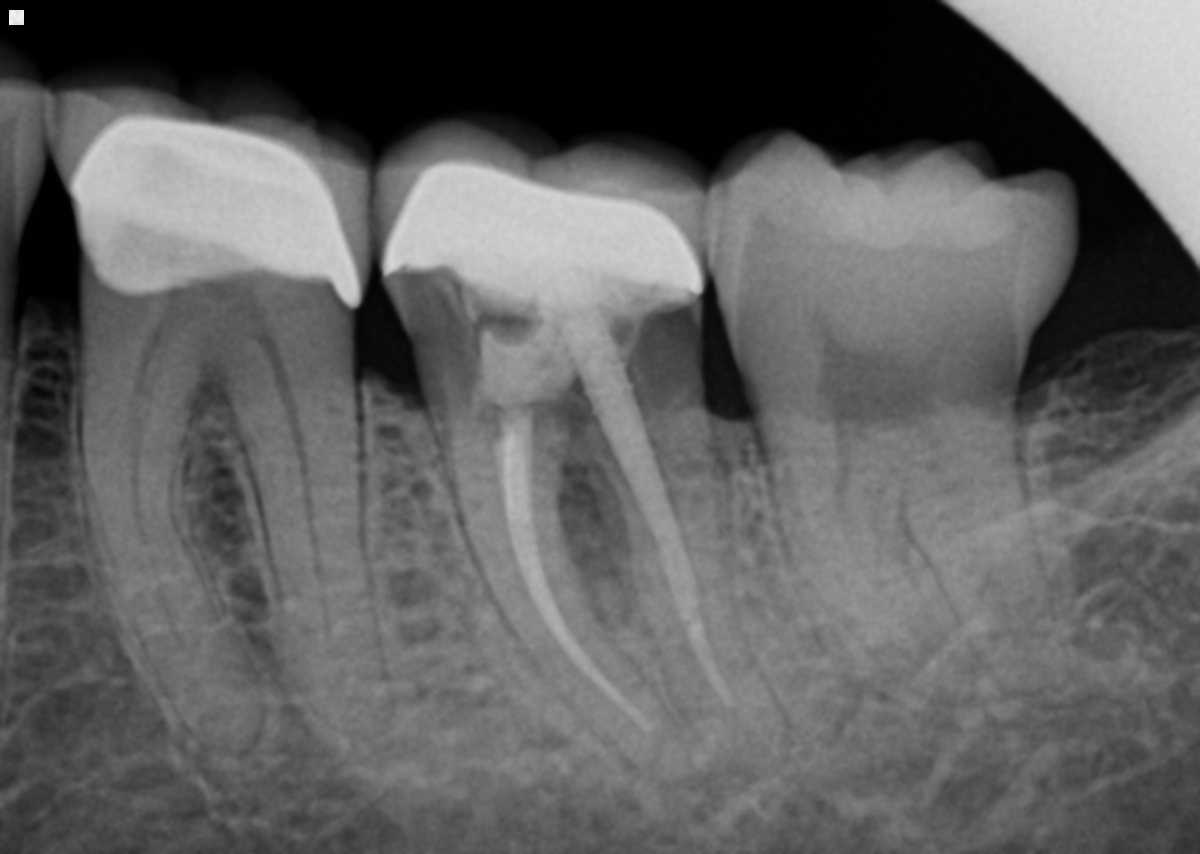Apical Lesion: (665, 765, 754, 817)
Distal Canal: (927, 430, 1036, 661), (264, 343, 338, 668)
Distal Root: (592, 403, 796, 785), (220, 316, 393, 741), (893, 372, 1067, 691)
Mesial Canal: (124, 358, 187, 651), (834, 429, 889, 594)
Mesial Root: (448, 440, 701, 785), (71, 344, 271, 754), (766, 406, 976, 702)
Root Canal Filling: (568, 319, 739, 708), (494, 413, 659, 731)
decay: (405, 271, 536, 432), (613, 308, 702, 415), (530, 381, 590, 431)
